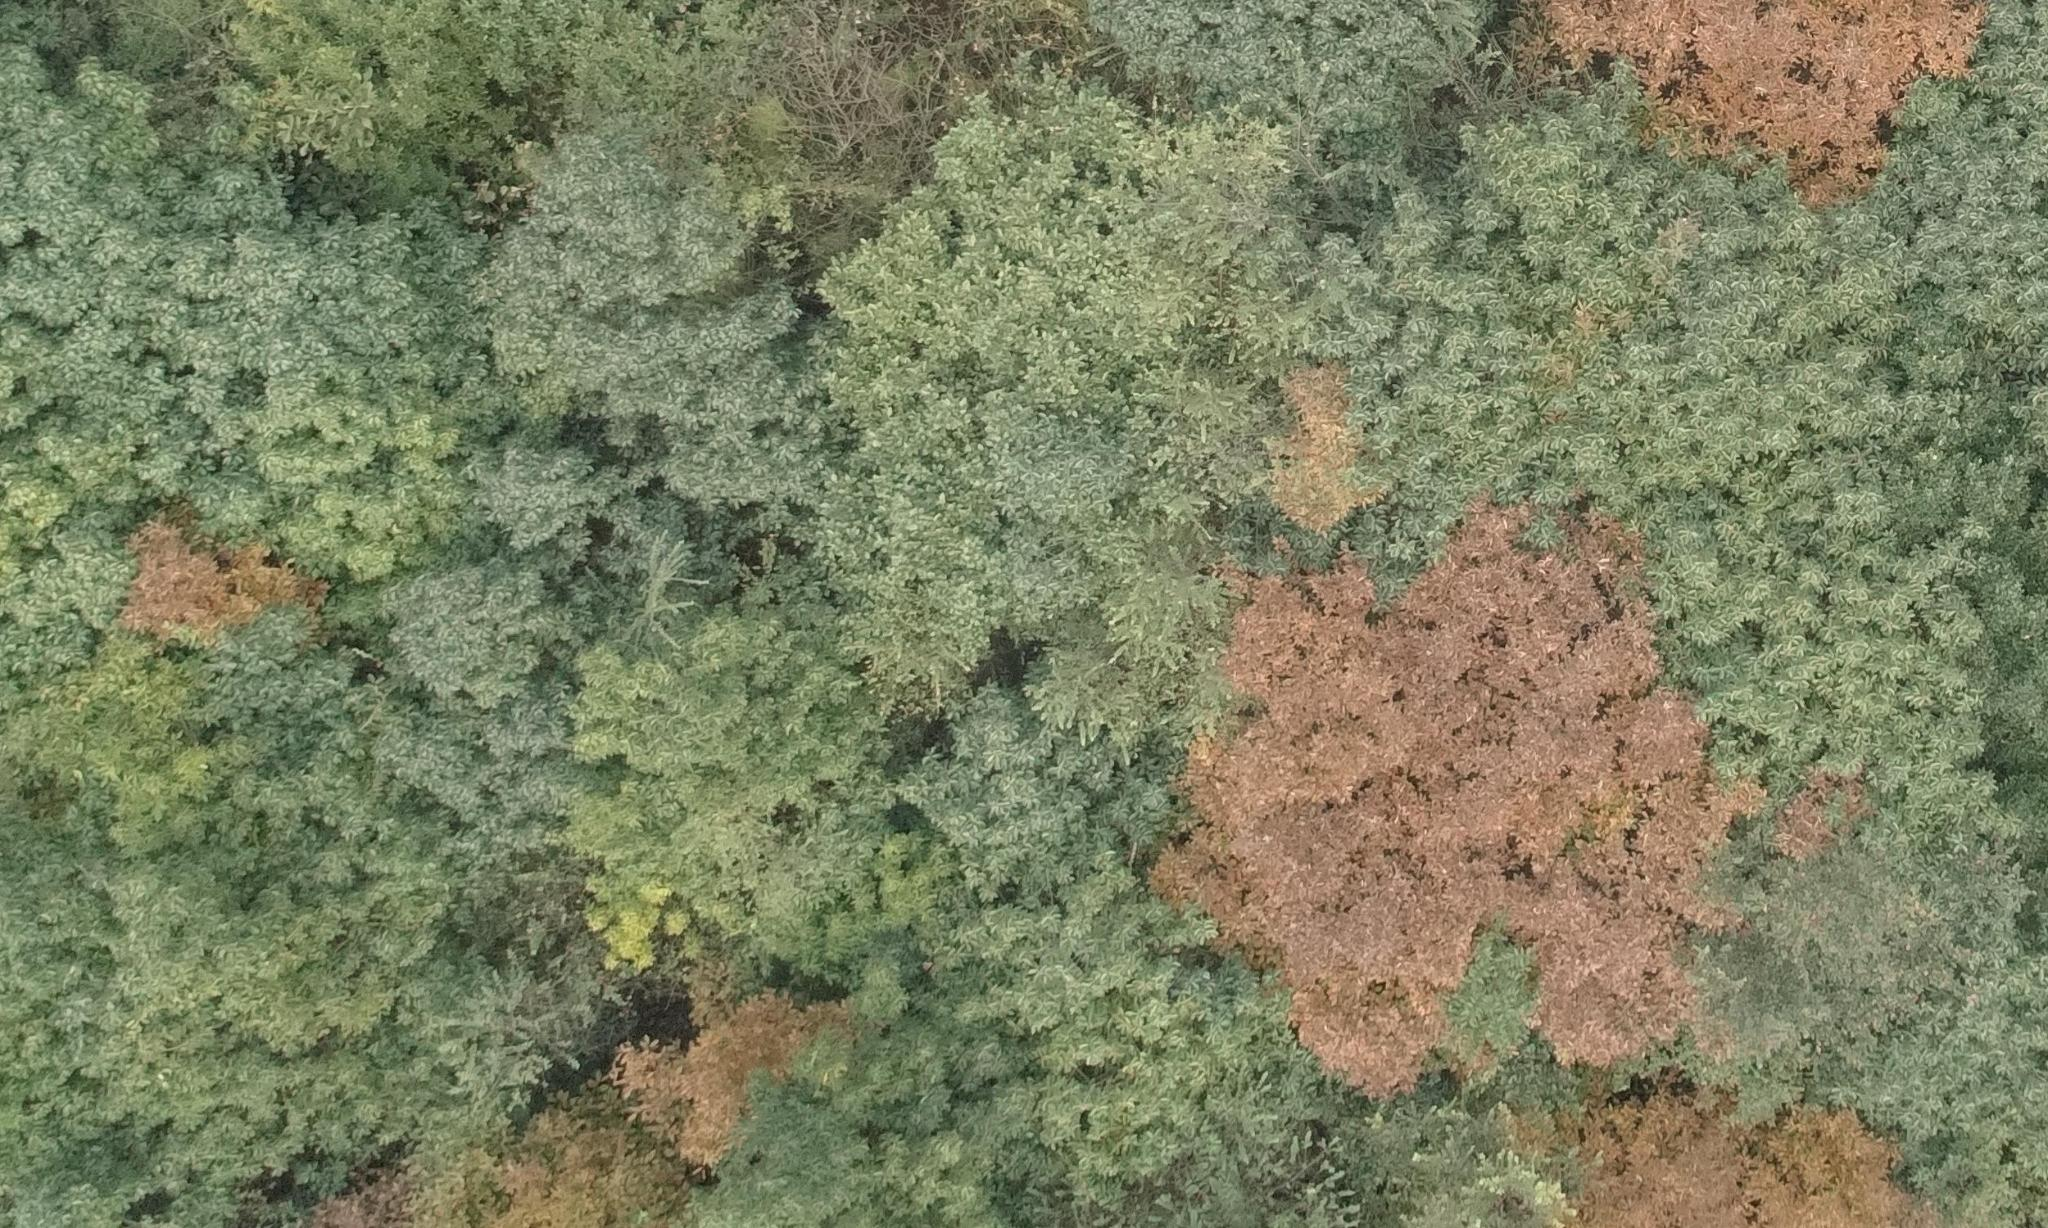heavy: (1171, 510, 1706, 1067), (1532, 0, 1984, 174), (1550, 1096, 1930, 1228), (615, 966, 835, 1162), (118, 523, 323, 645)
